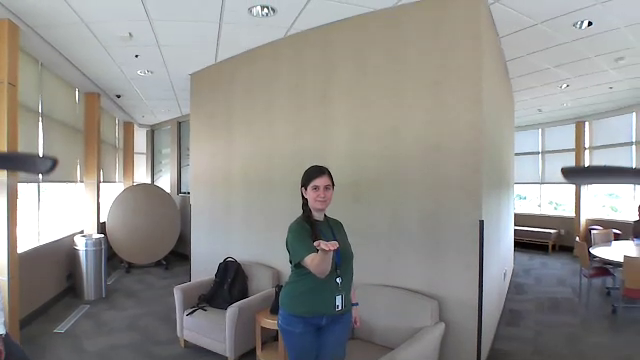land: (311, 237, 342, 251)
